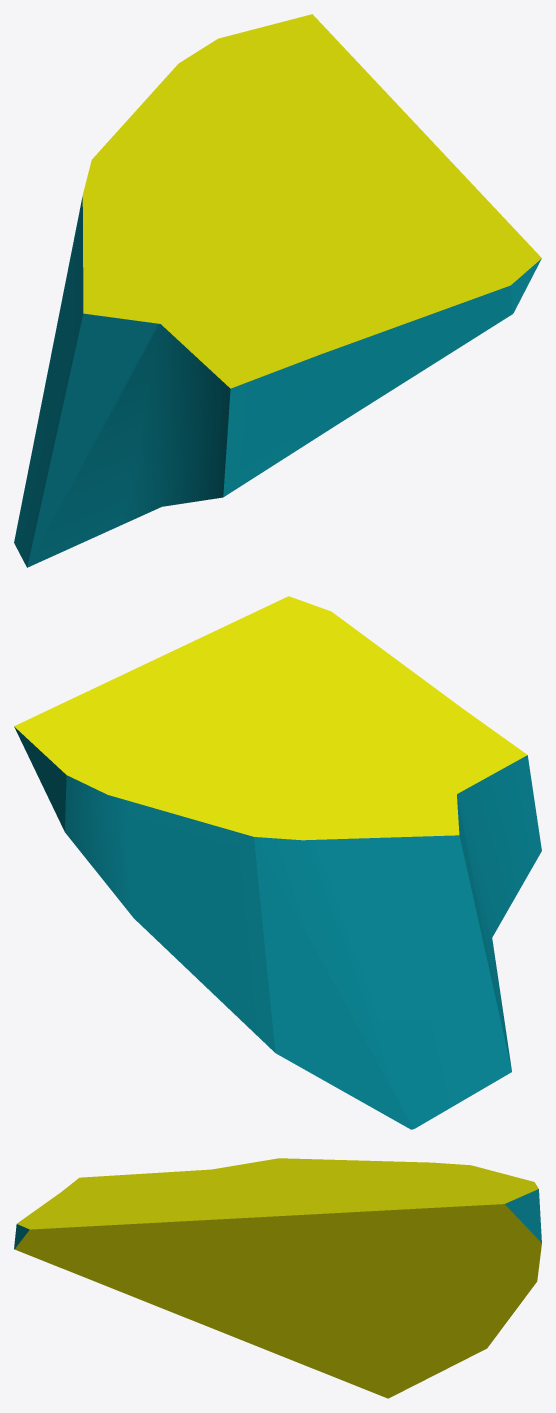
3 views of the same model, one above another, from view 1: azimuth 30°, elevation 25°; view 2: azimuth 150°, elevation 25°; view 3: azimuth 270°, elevation 25° (orthographic). The views are drawn at different scales.
Visible parts, largest first — view 1: polySurface25; view 2: polySurface25; view 3: polySurface25.
Boxes of the visible parts, x1,y1,x2,y2 form: polySurface25: (14, 14, 541, 567); polySurface25: (14, 596, 541, 1129); polySurface25: (14, 1158, 541, 1398).
Bounding box in the file's own units: 0.3683 × 0.3363 × 0.4537.
